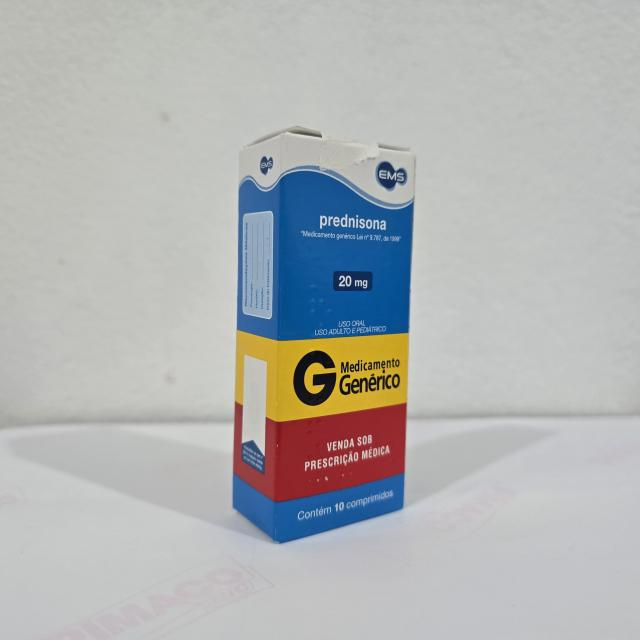prednisona: (229, 119, 422, 550)
